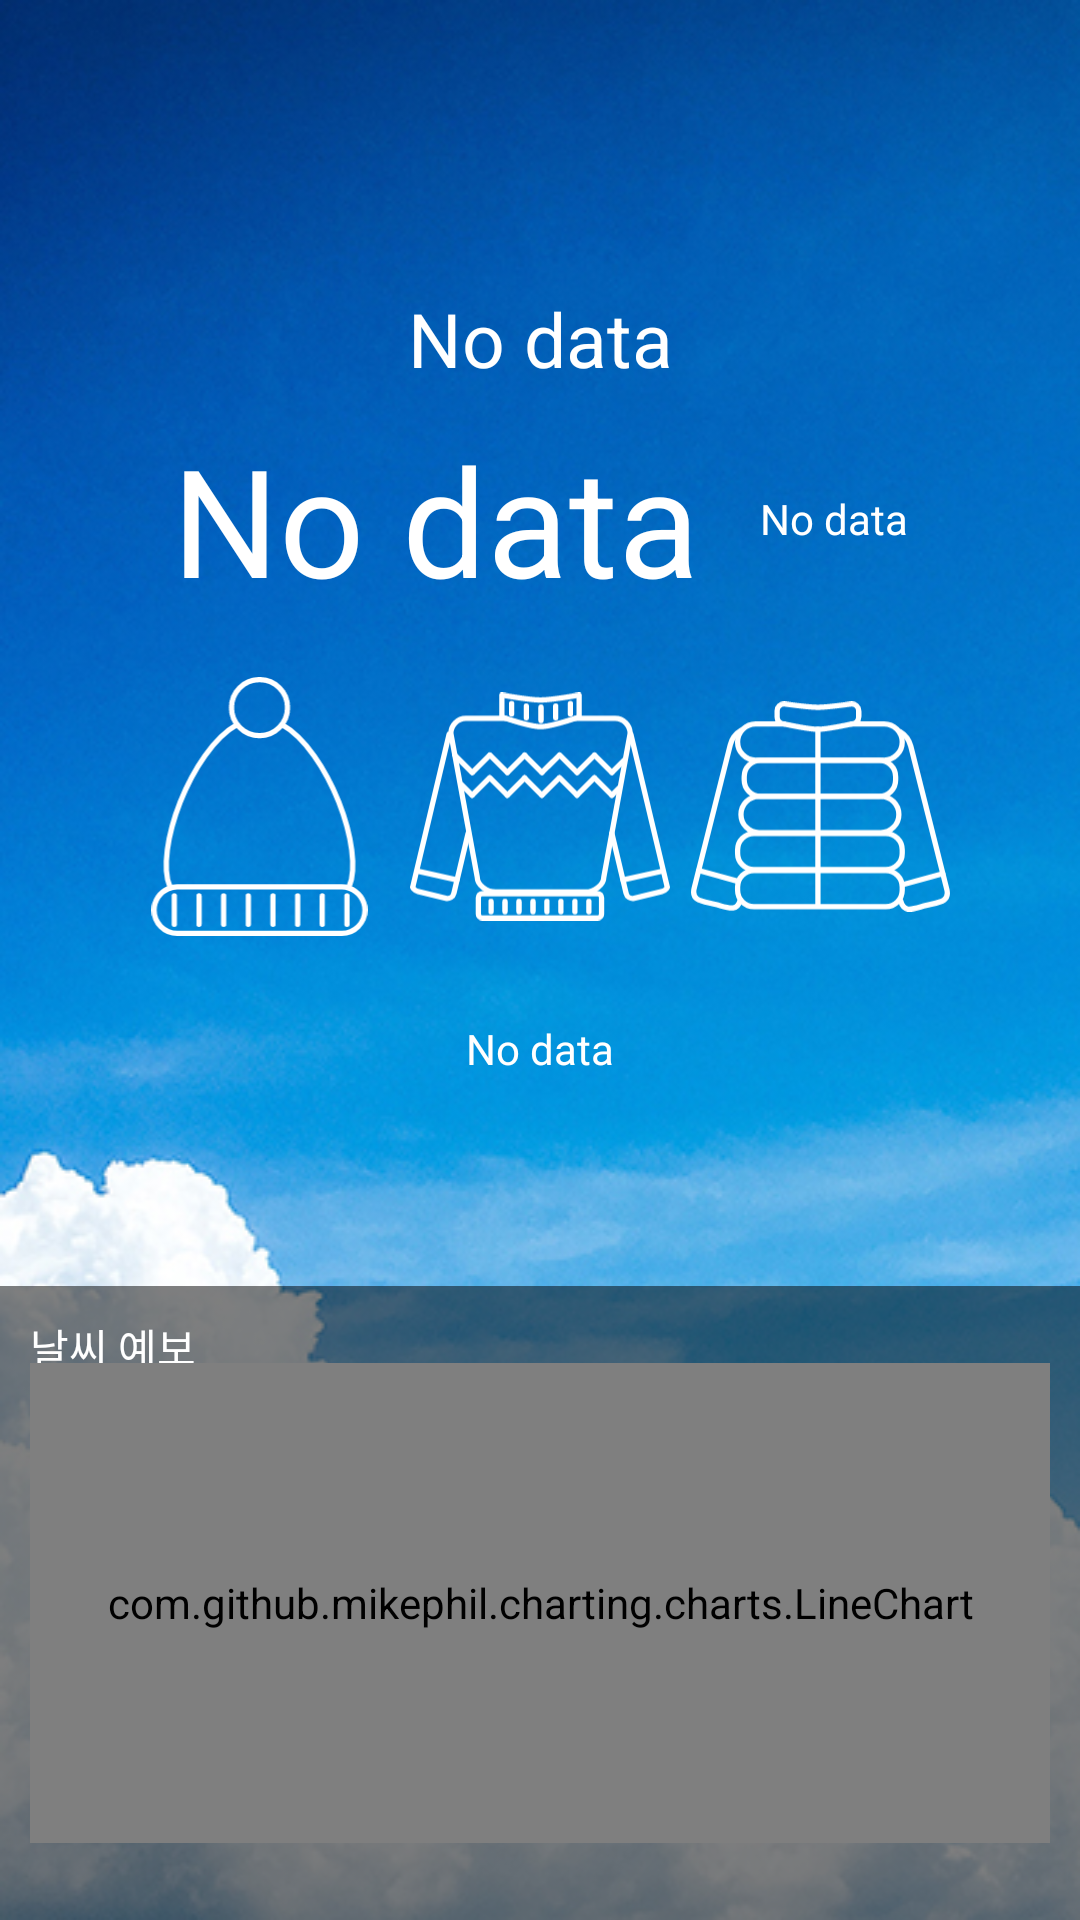

Named icons in this screenshot (1080 x 1920) and their centers, (x,y):
cloth hat: (259,806)
cloth padding: (820,794)
cloth sweater: (540,805)
